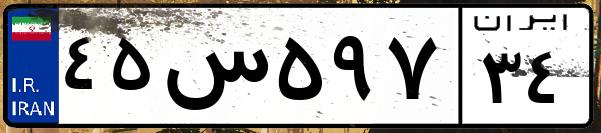3: (475, 38, 525, 113)
4: (57, 26, 110, 100), (525, 38, 570, 115)
5: (270, 28, 330, 110), (110, 28, 158, 98)
7: (385, 28, 445, 110)
9: (330, 28, 385, 110)
س: (158, 20, 270, 120)
